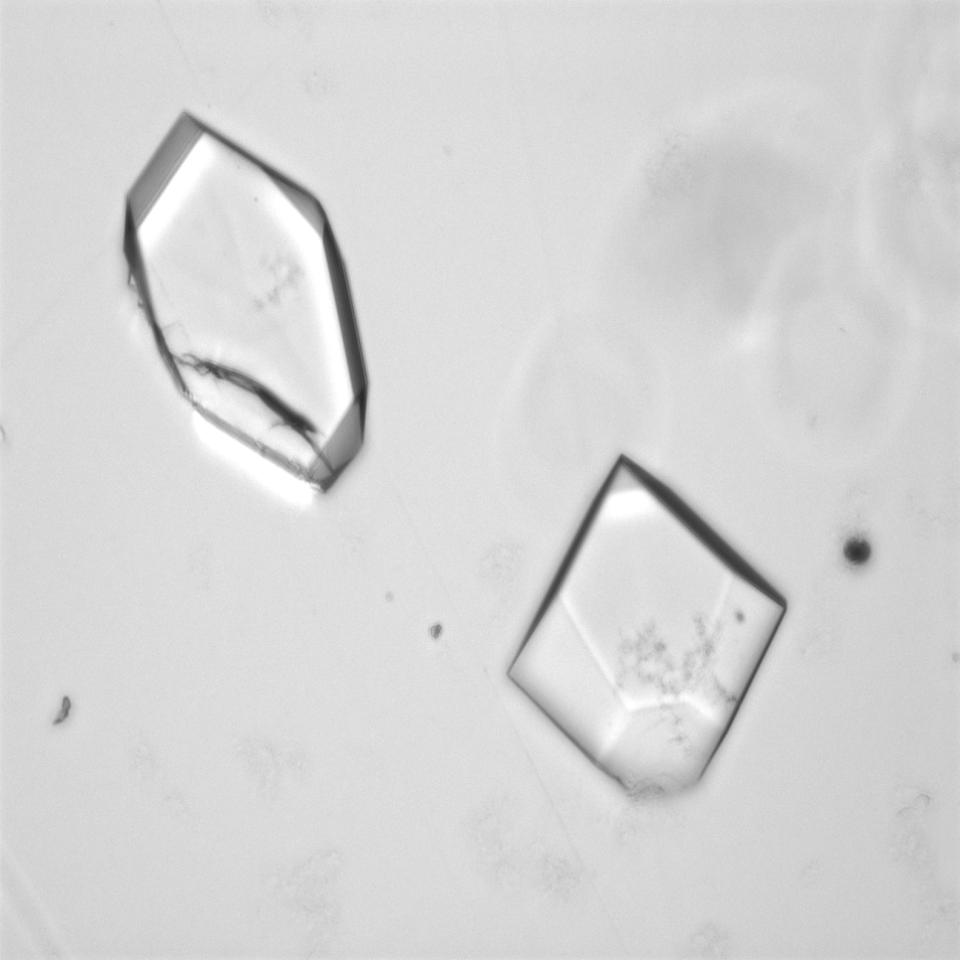crystal: (494, 424, 795, 824), (114, 108, 404, 514)
